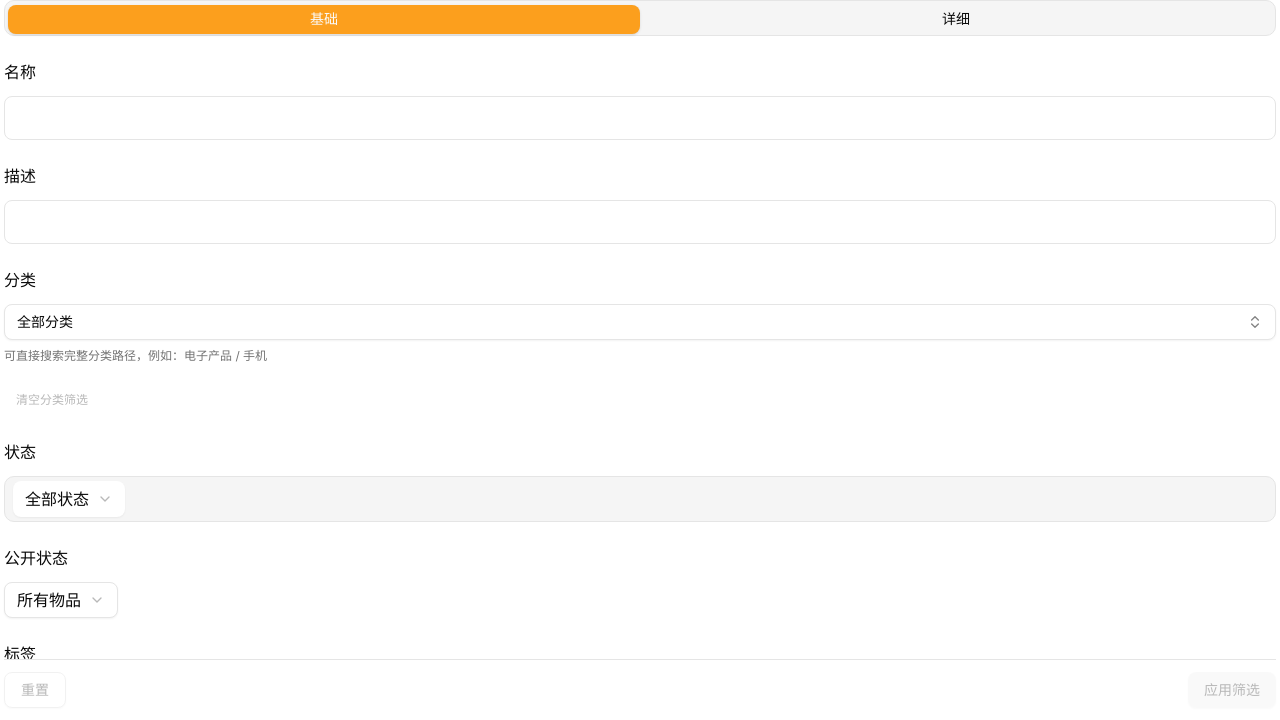
Scenario: ItemFilters › 详细标签页 › 应该在切换到详细标签页时显示购买日期
Click the tab "详细".
click(956, 19)  # box [640,4,1272,34]
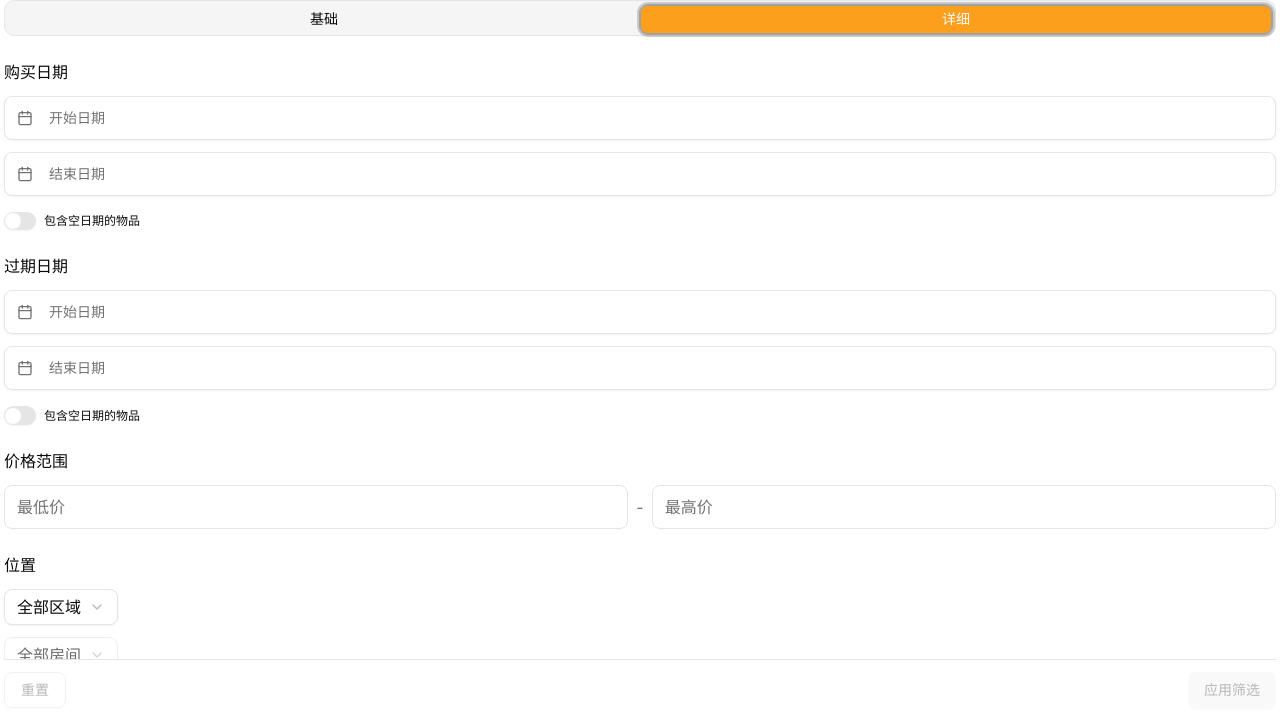
Now the text "购买日期" is shown, box [4,62,68,82]
